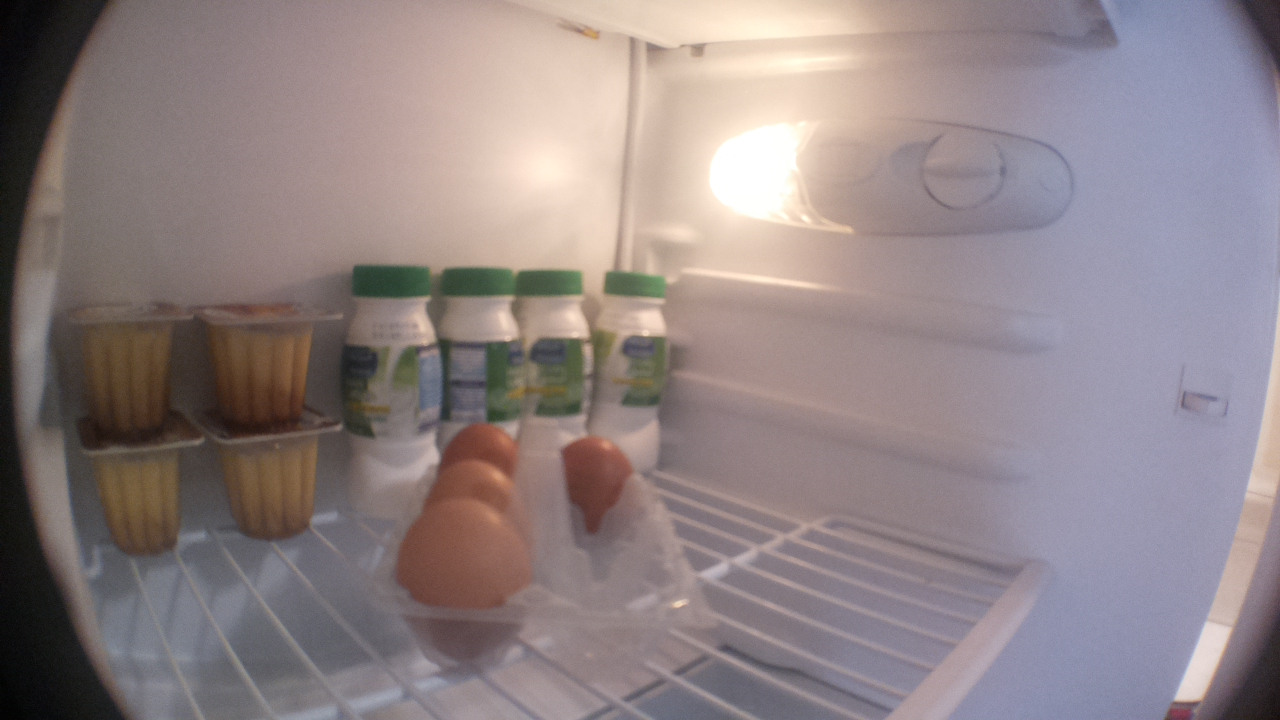caramel: (63, 297, 193, 446), (199, 295, 338, 430), (79, 419, 201, 558), (209, 425, 341, 546)
egg: (372, 500, 533, 672), (550, 433, 641, 541), (422, 454, 526, 510), (442, 430, 521, 483)
laban: (329, 258, 448, 515), (442, 254, 526, 433), (594, 261, 671, 452), (517, 262, 598, 426)
